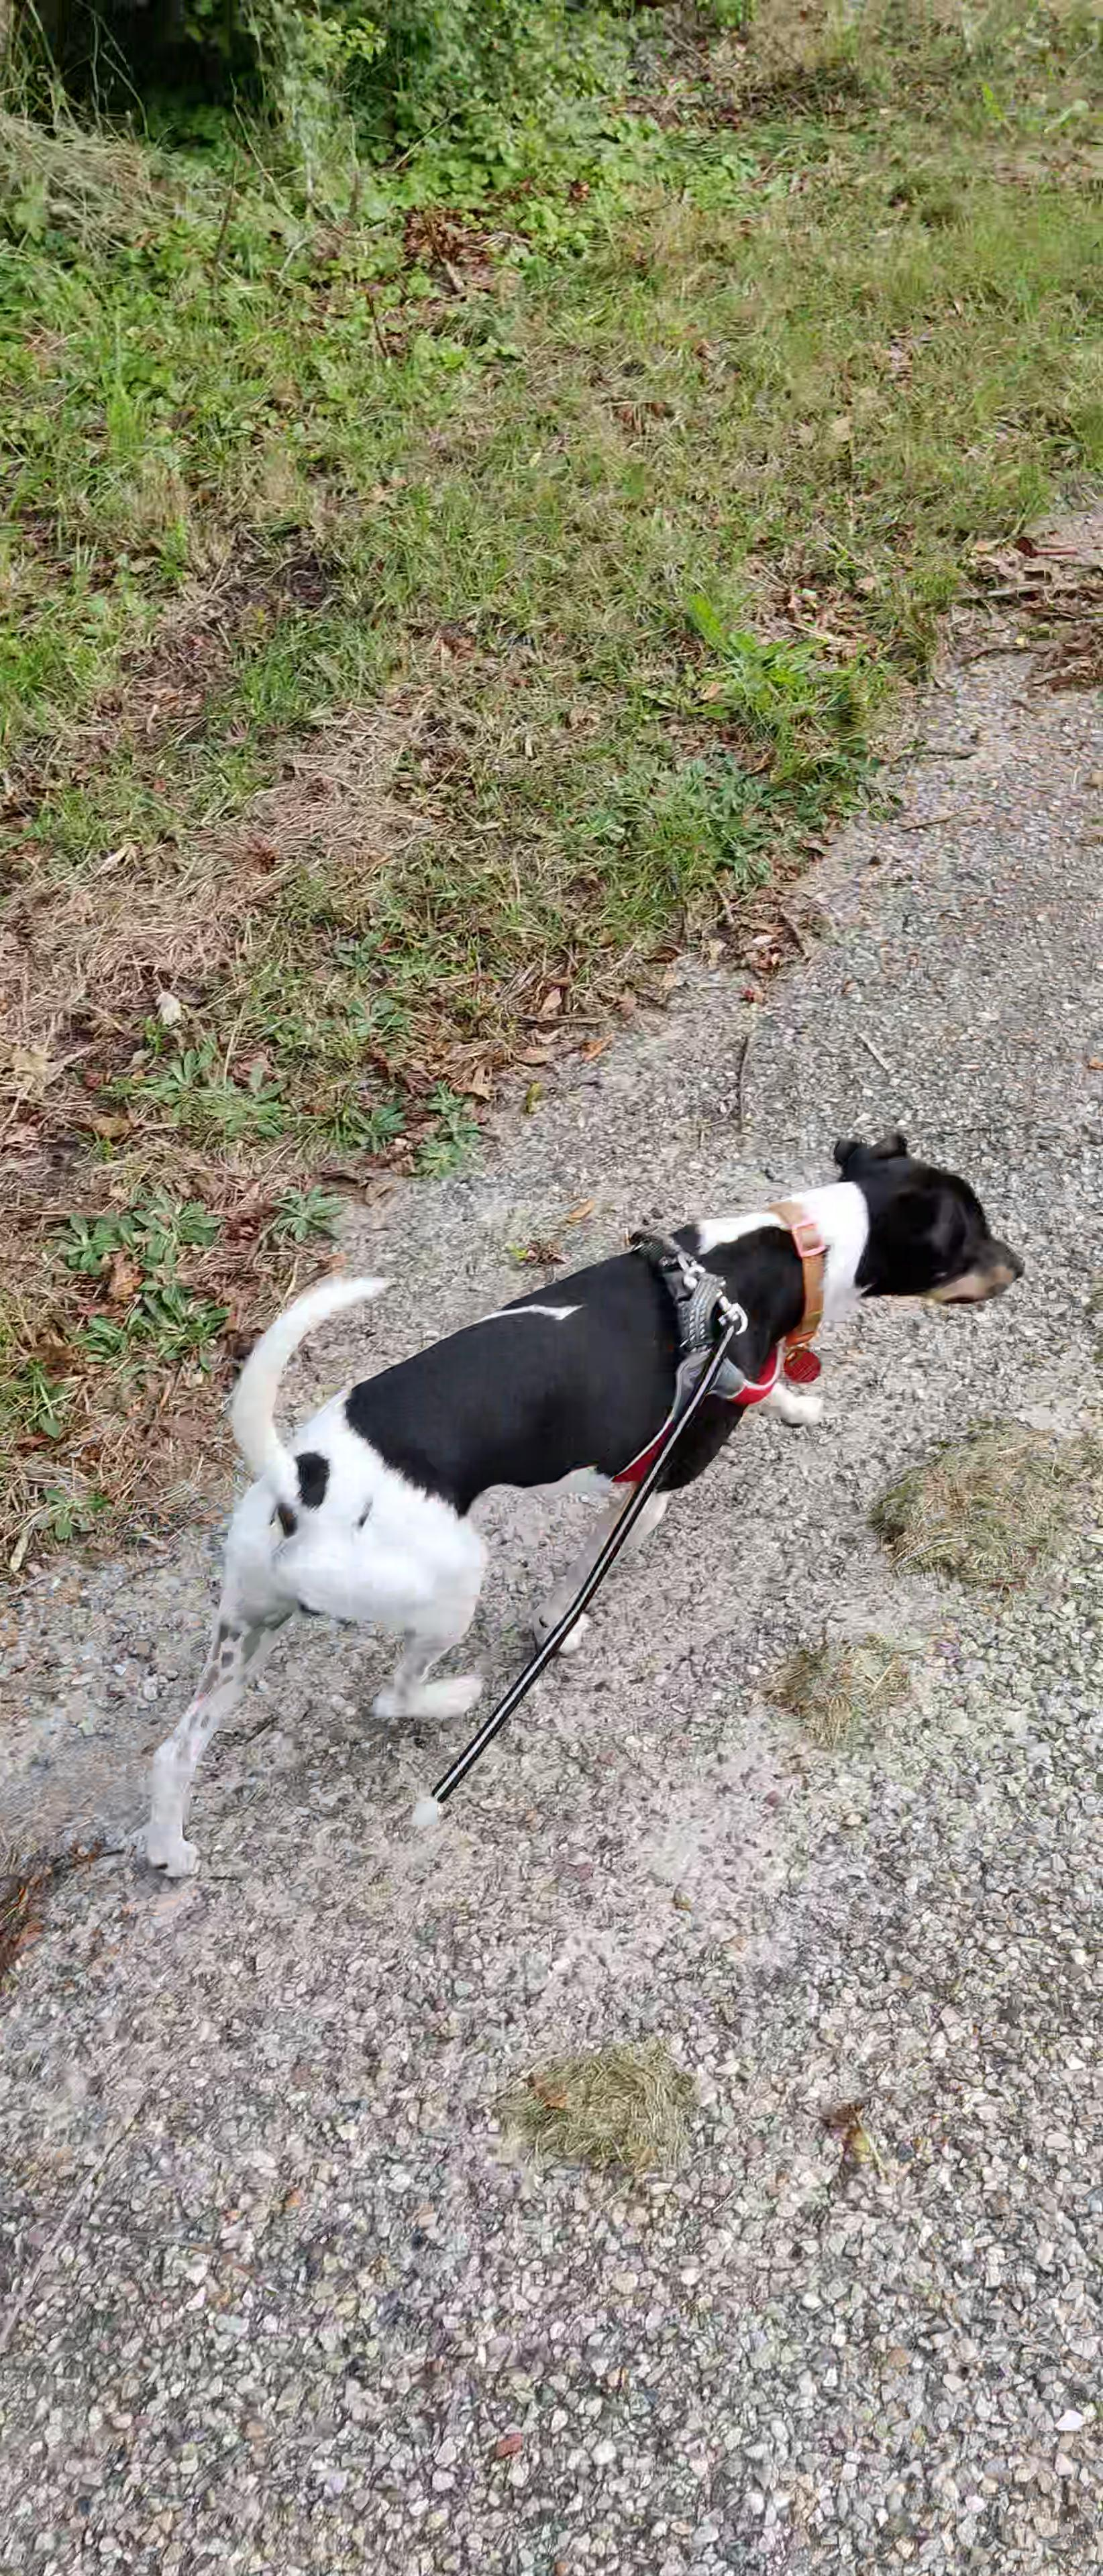Dog: (104, 1102, 1042, 1902)
